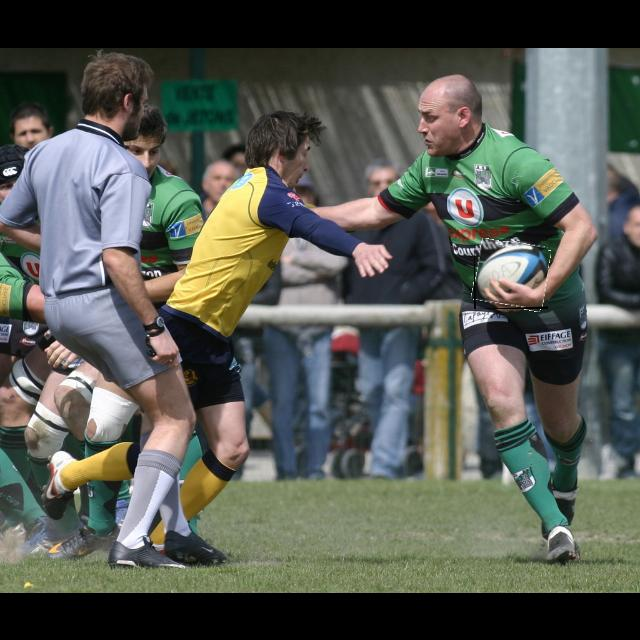Football: (474, 241, 548, 309)
